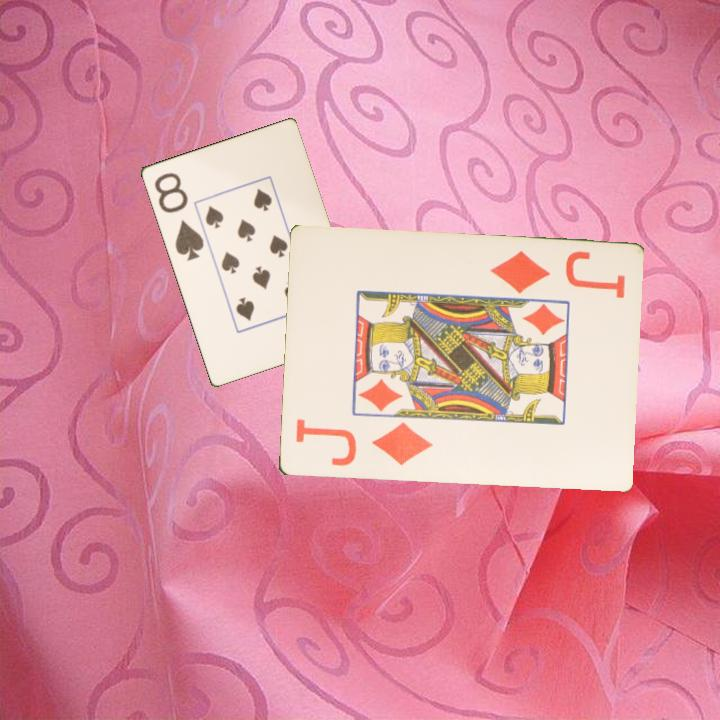8s: (150, 169, 206, 263)
Jd: (291, 415, 435, 470), (485, 247, 628, 302)
